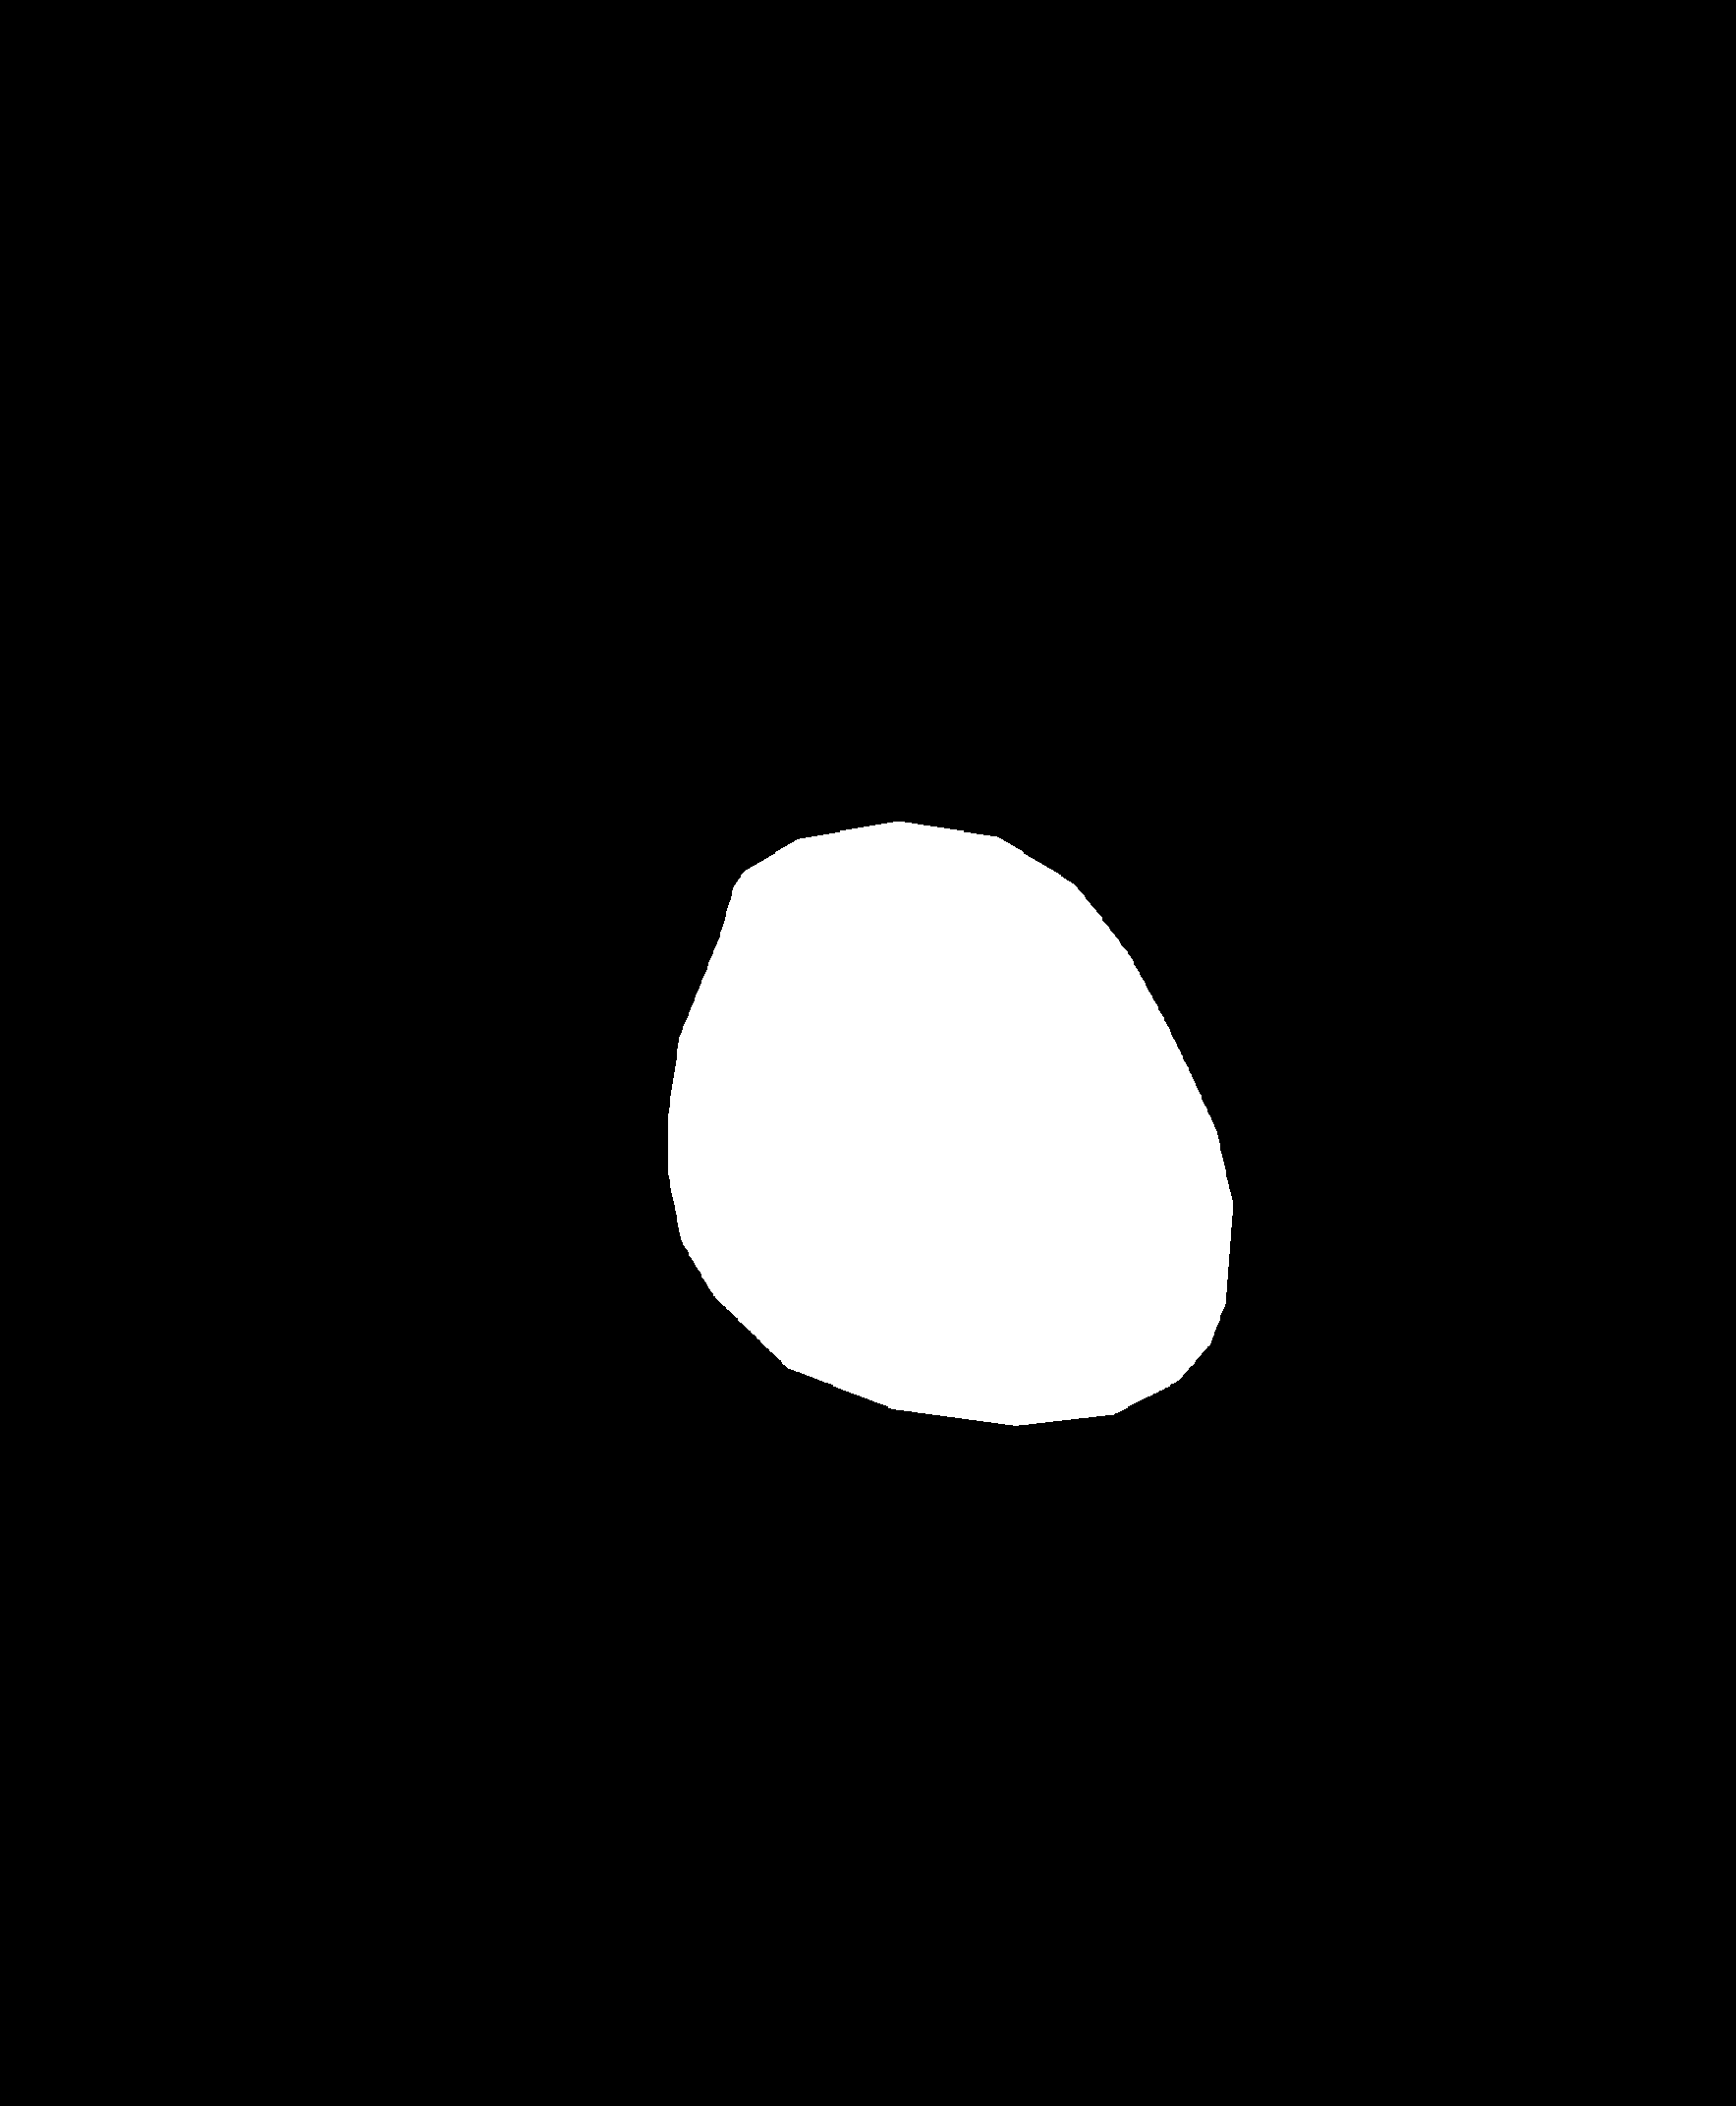heart: (670, 943, 1231, 1420)
left_lung: (323, 308, 787, 1489)
right_lung: (942, 322, 1414, 1406)
